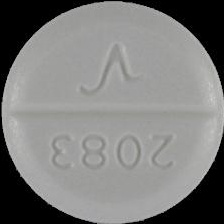42549-500: (0, 0, 224, 224)
